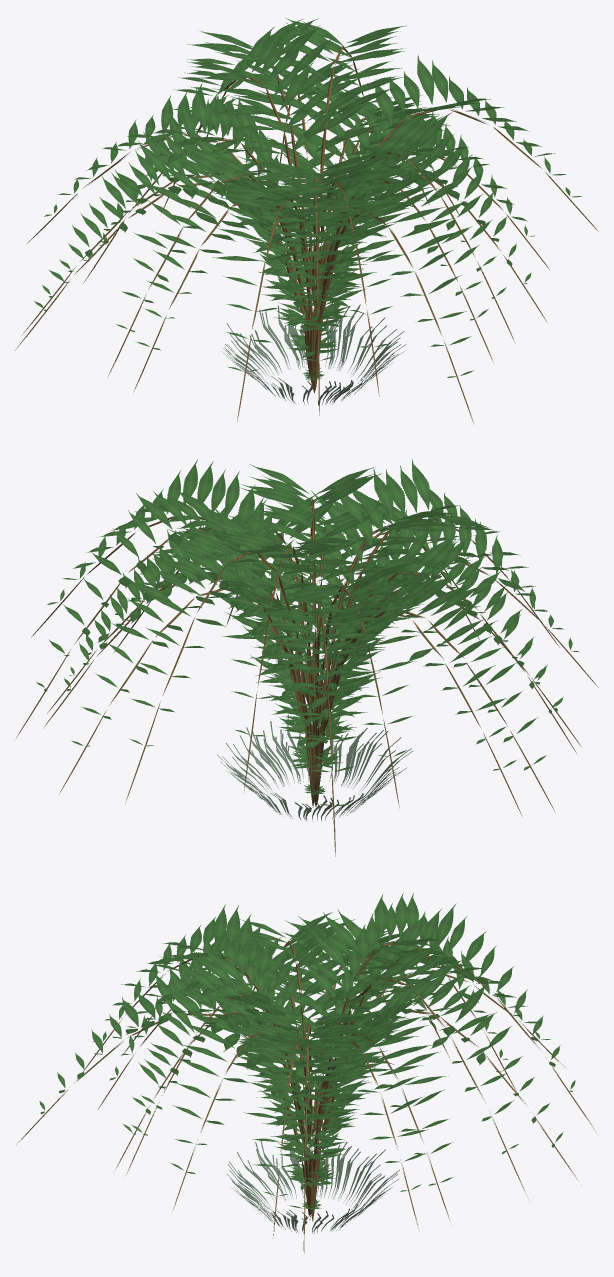
File: FERN_02_Woodland_Fan.glb
The picture shows the model from 3 angles, top to bottom: view 1: azimuth 30°, elevation 25°; view 2: azimuth 150°, elevation 25°; view 3: azimuth 270°, elevation 25°; orthographic projection. The views are drawn at different scales.
Visible parts, largest first — view 1: FERN_02_Woodland_Fan__FoliageCards, FERN_02_Woodland_Fan__WoodyStems; view 2: FERN_02_Woodland_Fan__FoliageCards, FERN_02_Woodland_Fan__WoodyStems; view 3: FERN_02_Woodland_Fan__FoliageCards, FERN_02_Woodland_Fan__WoodyStems.
Part boxes in pixels (x1,y1,x2,y2): FERN_02_Woodland_Fan__FoliageCards: (34,18,581,405); FERN_02_Woodland_Fan__WoodyStems: (15,46,598,423); FERN_02_Woodland_Fan__FoliageCards: (36,459,579,821); FERN_02_Woodland_Fan__WoodyStems: (16,498,598,856); FERN_02_Woodland_Fan__FoliageCards: (39,893,575,1233); FERN_02_Woodland_Fan__WoodyStems: (16,941,594,1252).
Bounding box in the file's own units: 1.19 × 0.6589 × 1.15.
1 material, 1 textured.
